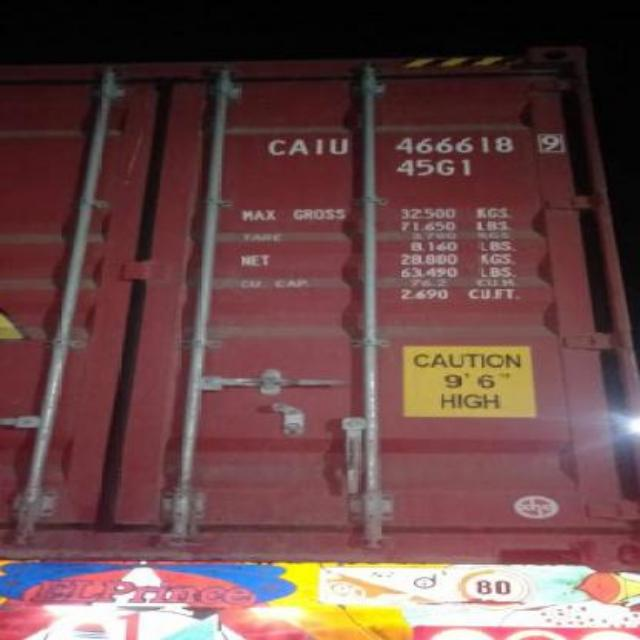1: (478, 137, 494, 153)
4: (392, 136, 416, 154)
6: (432, 137, 454, 153), (454, 137, 476, 153), (416, 137, 432, 153)
8: (496, 136, 514, 154)
9: (538, 133, 564, 151)
A: (286, 138, 312, 156)
C: (266, 138, 288, 156)
I: (312, 138, 328, 156)
U: (328, 137, 352, 155)
